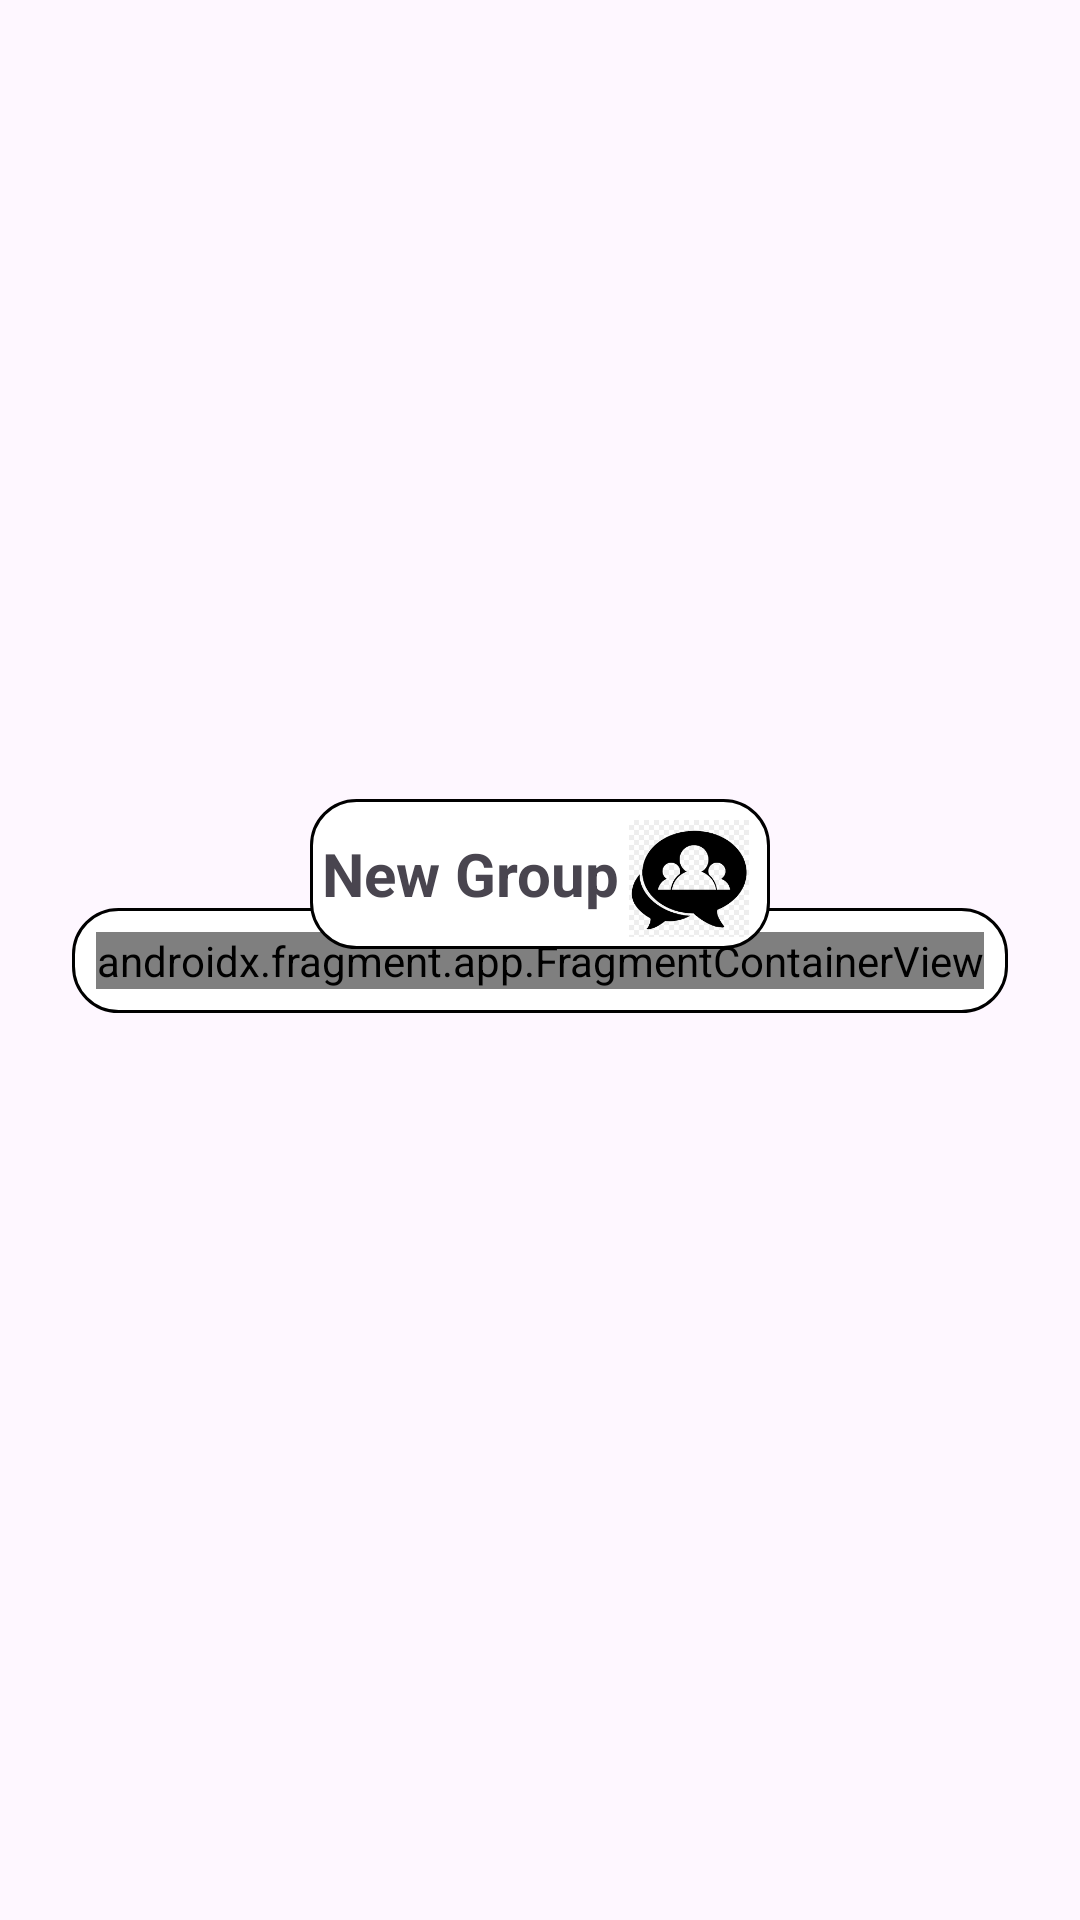

Icon bounding boxes for this 1080×1920 phone screenshot, format (x1, y1, x2, y2):
chatgroup: (631, 830, 747, 930)
